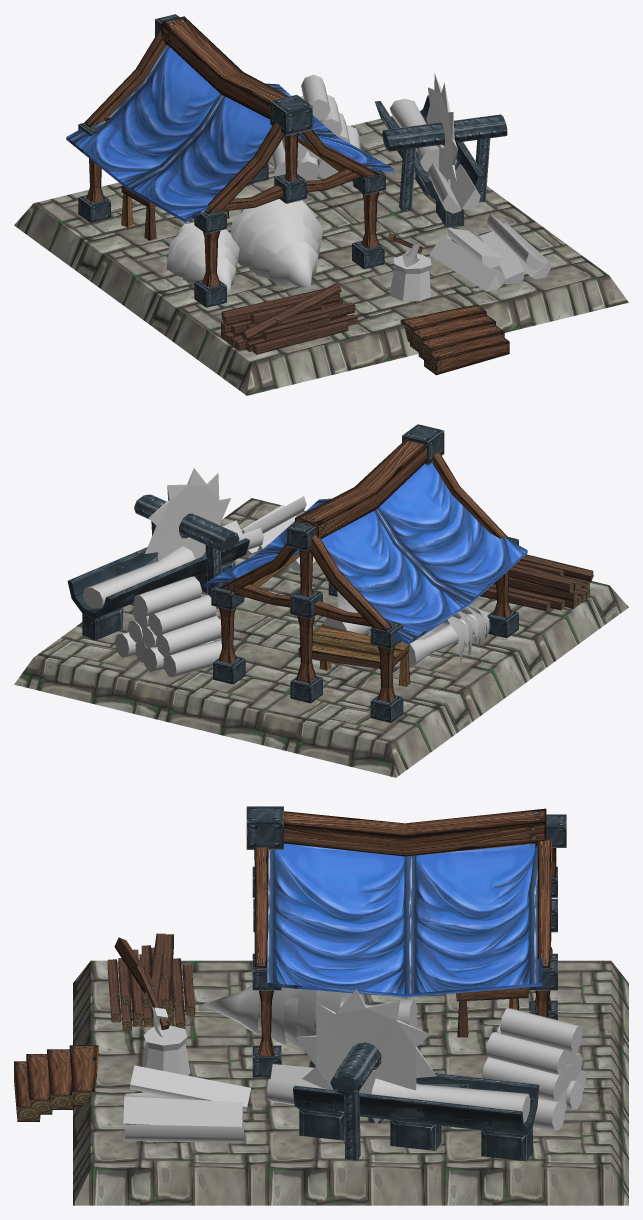
The model's file is lumbermill.FBX.
The picture shows the model from 3 angles, top to bottom: view 1: azimuth 30°, elevation 25°; view 2: azimuth 150°, elevation 25°; view 3: azimuth 270°, elevation 25°; orthographic projection. The views are drawn at different scales.
Visible parts, largest first — view 1: bedrock011, roof001, pine001 (×2), lumber_saw_base, joint (×7), wood_stairs, wood_table357, trunk014, trunk_cut002, lumber_saw, wood_table354, wood_table358 (+21 smaller); view 2: bedrock011, roof001, trunk014, lumber_saw_base, joint (×8), wood_table357, lumber_saw, pine001 (×2), table001, trnk_big, wood_table358, wood_table354 (+14 smaller); view 3: bedrock011, roof001, lumber_saw_base, wood_table357, trunk014, lumber_saw, wood_stairs, pine001, trunk_cut005, trunk_cut004, trnk_big, joint (×2) (+14 smaller).
Boxes of the visible parts, x1=… form: bedrock011: x1=14, y1=116, x2=628, y2=395; roof001: x1=66, y1=45, x2=394, y2=222; pine001 (×2): x1=166, y1=196, x2=323, y2=293; lumber_saw_base: x1=374, y1=95, x2=507, y2=227; joint (×7): x1=78, y1=95, x2=385, y2=307; wood_stairs: x1=400, y1=304, x2=509, y2=375; wood_table357: x1=161, y1=16, x2=288, y2=119; trunk014: x1=271, y1=74, x2=360, y2=180; trunk_cut002: x1=429, y1=234, x2=499, y2=291; lumber_saw: x1=426, y1=73, x2=457, y2=185; wood_table354: x1=205, y1=122, x2=284, y2=214; wood_table358: x1=84, y1=30, x2=165, y2=127; bedrock011: x1=14, y1=498, x2=628, y2=777; roof001: x1=203, y1=463, x2=527, y2=644; trunk014: x1=114, y1=576, x2=221, y2=677; lumber_saw_base: x1=67, y1=494, x2=249, y2=640; joint (×8): x1=211, y1=424, x2=518, y2=722; wood_table357: x1=295, y1=439, x2=426, y2=538; lumber_saw: x1=145, y1=468, x2=230, y2=561; pine001 (×2): x1=324, y1=591, x2=491, y2=667; table001: x1=298, y1=625, x2=410, y2=688; trnk_big: x1=83, y1=546, x2=195, y2=608; wood_table358: x1=309, y1=535, x2=392, y2=631; wood_table354: x1=432, y1=451, x2=510, y2=540; bedrock011: x1=73, y1=960, x2=628, y2=1205; roof001: x1=267, y1=843, x2=542, y2=997; lumber_saw_base: x1=293, y1=1042, x2=539, y2=1161; wood_table357: x1=284, y1=808, x2=546, y2=856; trunk014: x1=482, y1=1008, x2=585, y2=1130; lumber_saw: x1=296, y1=989, x2=436, y2=1124; wood_stairs: x1=14, y1=1045, x2=98, y2=1121; pine001: x1=202, y1=985, x2=416, y2=1049; trunk_cut005: x1=123, y1=1096, x2=243, y2=1126; trunk_cut004: x1=129, y1=1065, x2=251, y2=1111; trnk_big: x1=371, y1=1078, x2=530, y2=1123; joint (×2): x1=246, y1=806, x2=283, y2=1077.
Bounding box in the file's own units: 95.13 × 111 × 49.09.
